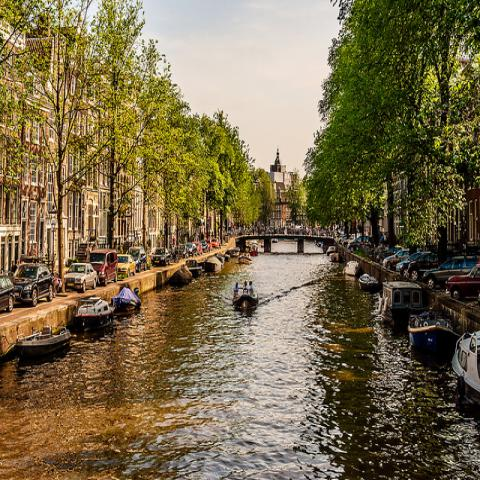car: (14, 228, 422, 279), (423, 256, 479, 290), (11, 263, 55, 305), (446, 263, 480, 306), (90, 249, 118, 286), (65, 263, 98, 292), (409, 249, 439, 278), (0, 274, 16, 312), (382, 248, 410, 269), (127, 247, 147, 273), (117, 254, 137, 277), (150, 248, 172, 268), (183, 242, 199, 257), (192, 241, 203, 255)
